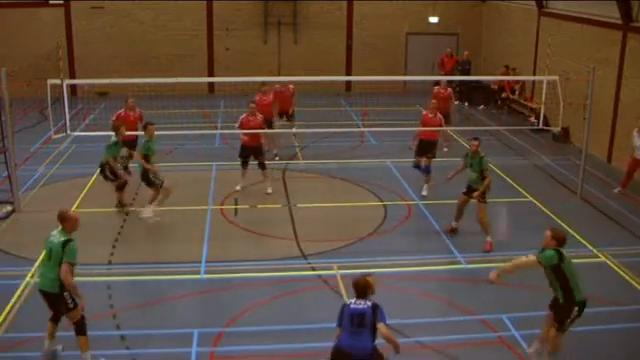Player: (38, 209, 90, 359), (330, 275, 399, 359), (446, 137, 493, 252), (235, 101, 271, 193), (138, 122, 171, 218), (412, 100, 444, 196), (99, 121, 127, 210), (112, 97, 143, 174), (432, 80, 454, 125), (254, 83, 275, 129), (274, 84, 295, 128)
Receive: (484, 226, 607, 359)
